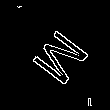M_SE: (23, 21, 93, 89)
